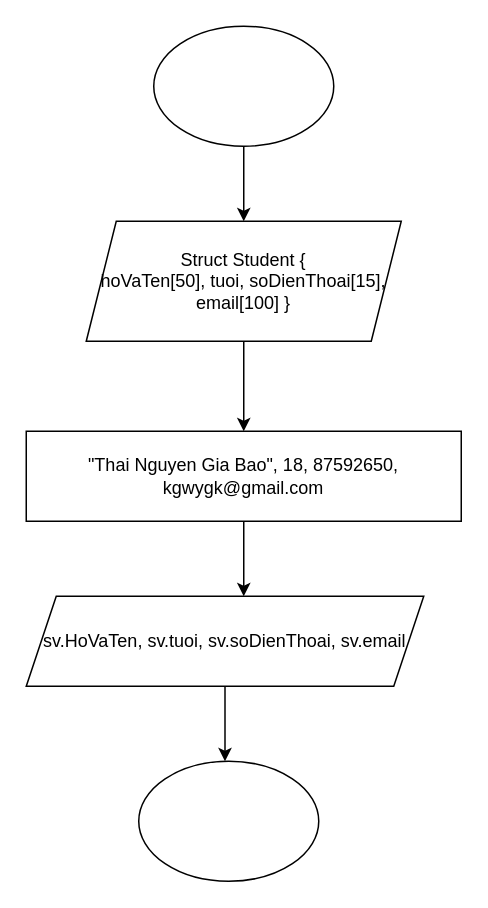
Image size: 488x908. Some labels were removed from this diagram. The shapes that lost their labels are listed below. From the top down, each one's centre as x and y in pixels, then its label:
point (243, 85): Start
point (228, 820): END
